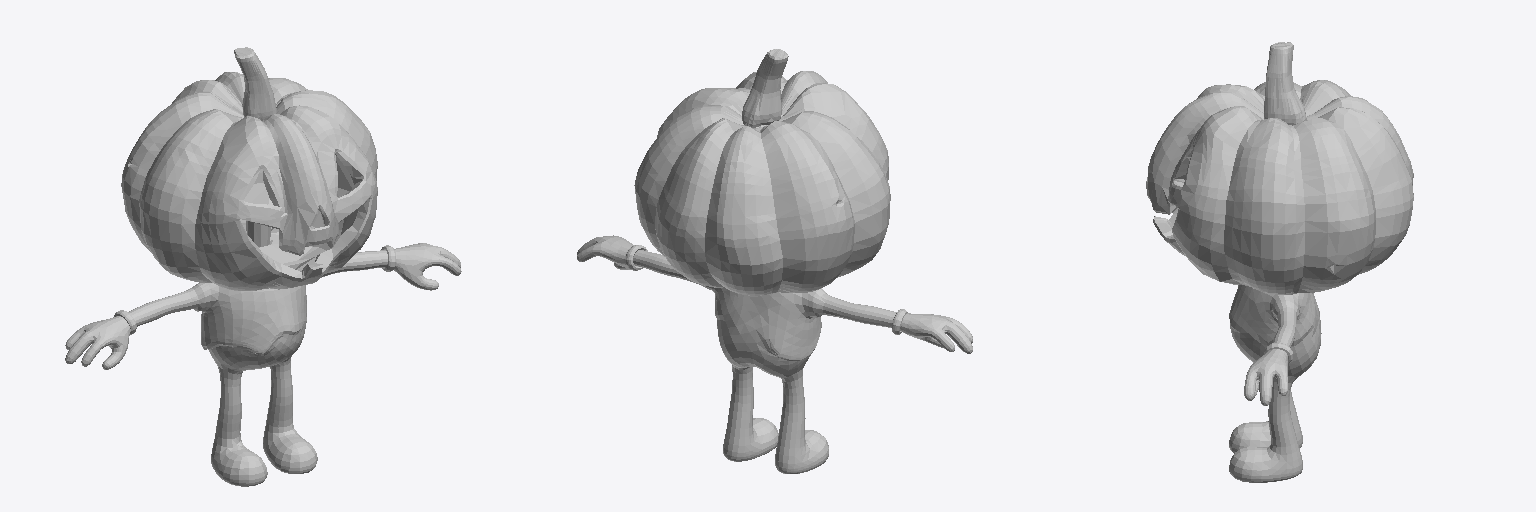
The model's file is pumpkinman_anim.obj.
3 renders of one model, left to right at view 1: azimuth 30°, elevation 25°; view 2: azimuth 150°, elevation 25°; view 3: azimuth 270°, elevation 25°, orthographic.
Visible parts, largest first — view 1: object_pumpkinman_anim_v2:polySurface8, pumpkinmanbody_lo:Group32278; view 2: object_pumpkinman_anim_v2:polySurface8, pumpkinmanbody_lo:Group32278; view 3: object_pumpkinman_anim_v2:polySurface8, pumpkinmanbody_lo:Group32278.
Part boxes in pixels (x1,y1,x2,y2): object_pumpkinman_anim_v2:polySurface8: (121, 47, 377, 290); pumpkinmanbody_lo:Group32278: (65, 243, 461, 486); object_pumpkinman_anim_v2:polySurface8: (634, 49, 890, 295); pumpkinmanbody_lo:Group32278: (577, 235, 972, 473); object_pumpkinman_anim_v2:polySurface8: (1146, 42, 1413, 294); pumpkinmanbody_lo:Group32278: (1229, 285, 1321, 482).
Size of the model in its own units: 1.72 by 1.73 by 1.01.